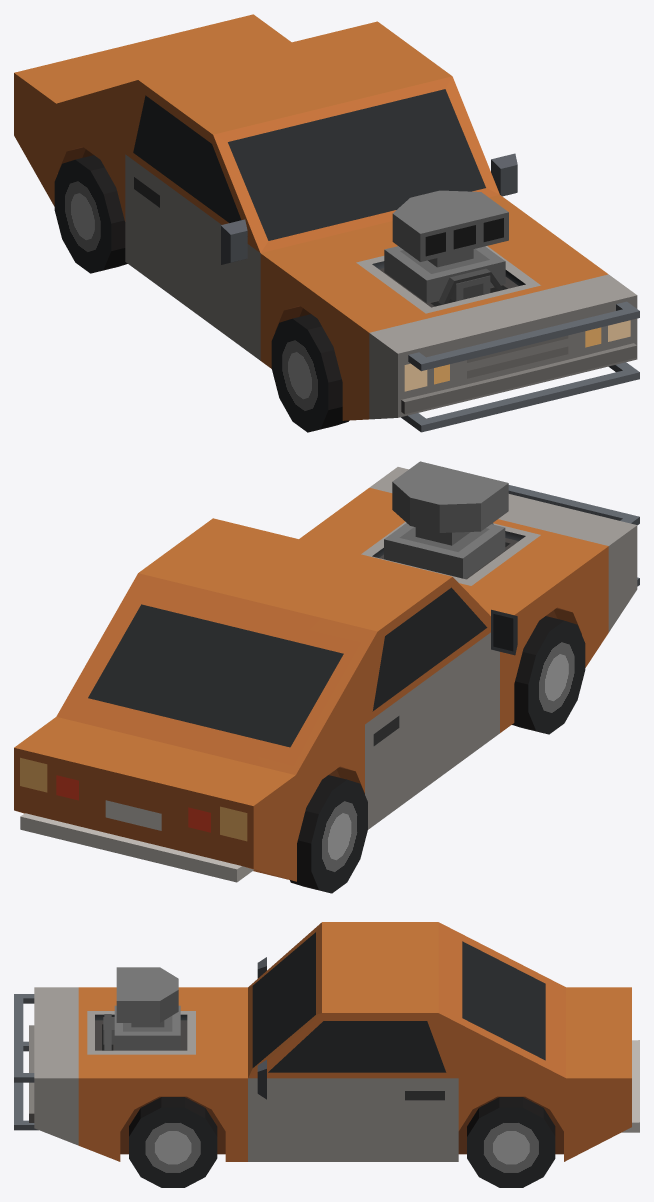
File: DerbyCar_Orange.fbx
3 renders of one model, top to bottom at view 1: azimuth 30°, elevation 25°; view 2: azimuth 150°, elevation 25°; view 3: azimuth 270°, elevation 25°, orthographic. The views are drawn at different scales.
Visible parts, largest first — view 1: SR_Veh_DerbyCar_Orange, SR_Veh_DerbyCar_Wheel_FR, SR_Veh_DerbyCar_Wheel_RR; view 2: SR_Veh_DerbyCar_Orange, SR_Veh_DerbyCar_Wheel_FR, SR_Veh_DerbyCar_Wheel_RR; view 3: SR_Veh_DerbyCar_Orange, SR_Veh_DerbyCar_Wheel_FL, SR_Veh_DerbyCar_Wheel_RL.
Boxes of the visible parts, left/top/right/bottom form: SR_Veh_DerbyCar_Orange: left=14, top=14, right=639, bottom=432; SR_Veh_DerbyCar_Wheel_FR: left=271, top=314, right=348, bottom=432; SR_Veh_DerbyCar_Wheel_RR: left=54, top=155, right=127, bottom=273; SR_Veh_DerbyCar_Orange: left=14, top=461, right=639, bottom=882; SR_Veh_DerbyCar_Wheel_FR: left=512, top=616, right=585, bottom=734; SR_Veh_DerbyCar_Wheel_RR: left=290, top=775, right=367, bottom=893; SR_Veh_DerbyCar_Orange: left=14, top=922, right=639, bottom=1161; SR_Veh_DerbyCar_Wheel_FL: left=129, top=1097, right=217, bottom=1187; SR_Veh_DerbyCar_Wheel_RL: left=467, top=1097, right=555, bottom=1187.
Bounding box in the file's own units: 340 × 243 × 804.
1 material, 1 textured.
